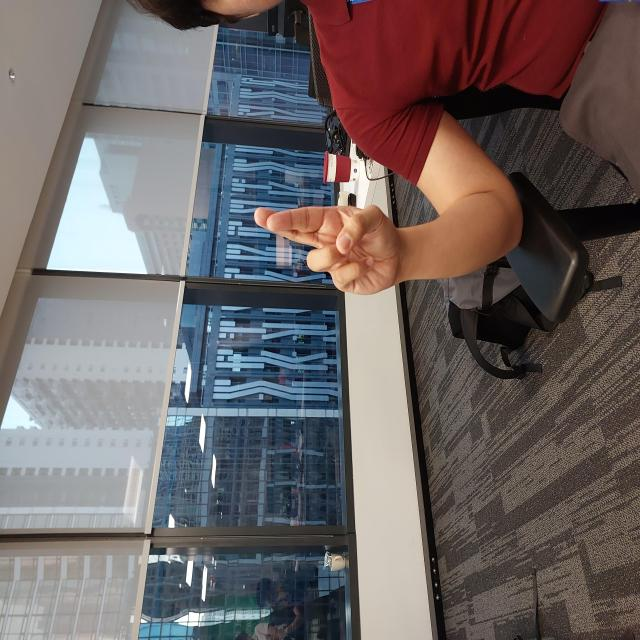R: (342, 252, 442, 403)
